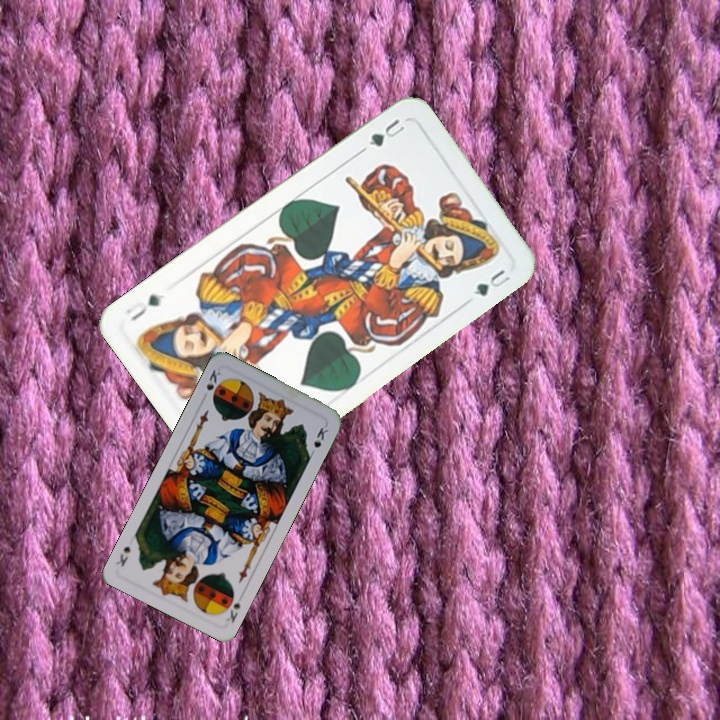GU: (364, 114, 408, 149)
SK: (222, 597, 243, 626), (202, 365, 223, 393)
